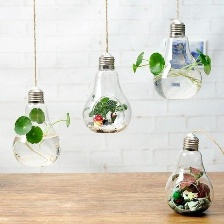light_bulb: (160, 131, 216, 218), (79, 48, 134, 135), (9, 86, 65, 171), (150, 17, 203, 102)
